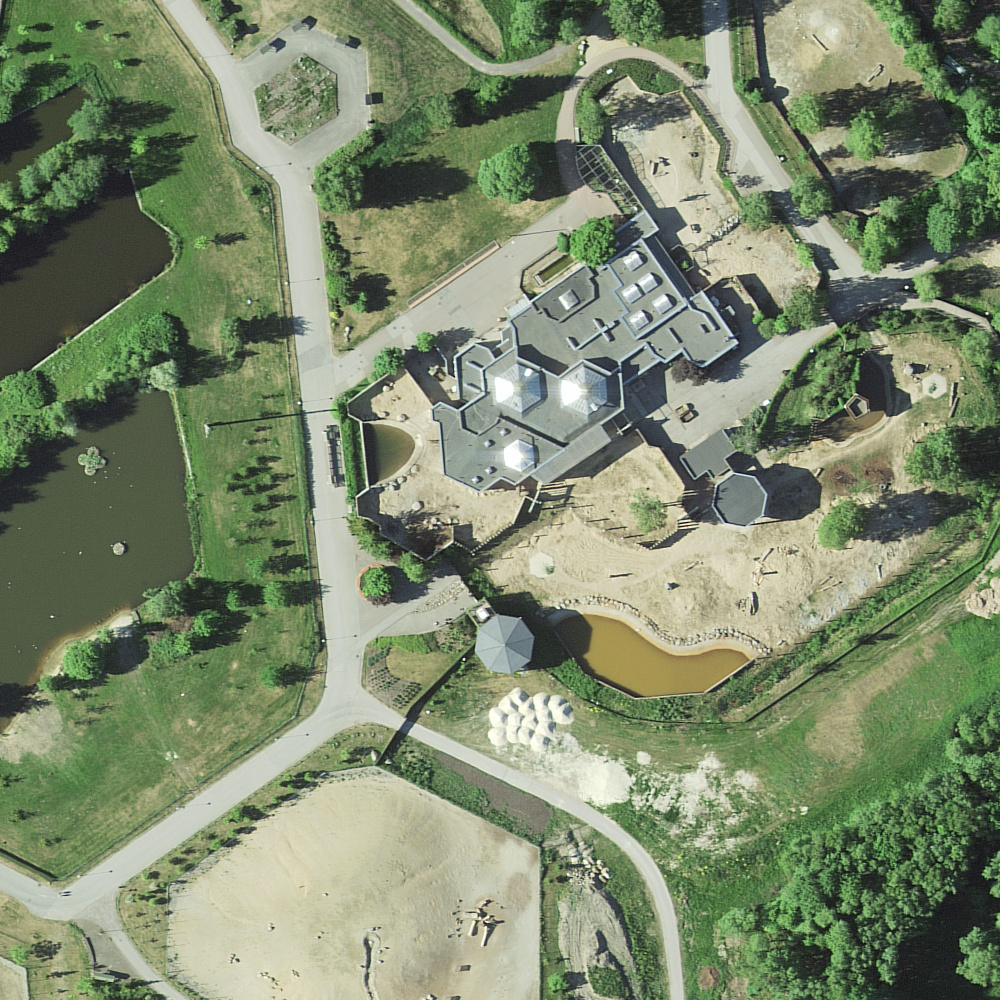building: (431, 212, 740, 493), (475, 615, 535, 674), (679, 426, 738, 482), (713, 472, 768, 528)
